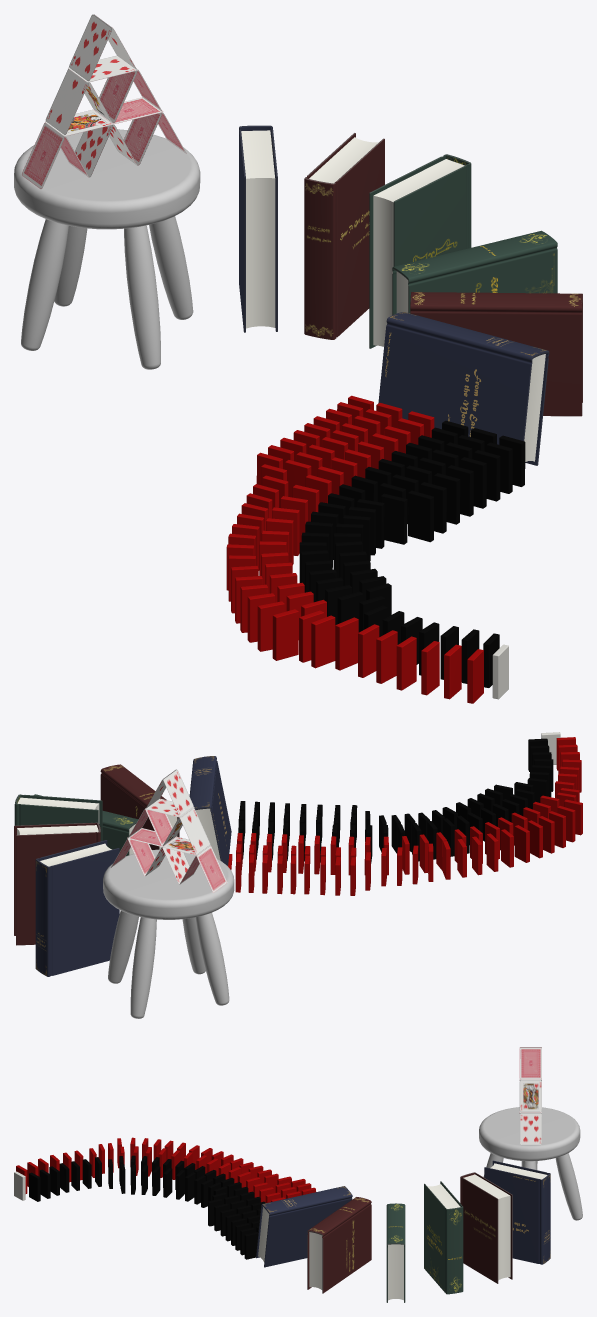
File: dominoPuzzle.fbx
The picture shows the model from 3 angles, top to bottom: view 1: azimuth 30°, elevation 25°; view 2: azimuth 150°, elevation 25°; view 3: azimuth 270°, elevation 25°; orthographic projection. The views are drawn at different scales.
Visible parts, largest first — view 1: pCube366 (×2), pCube364 (×2), pCube341 (×2), pCylinder159, pCube365 (×2), pCube369 (×7), pCube342, pCylinder162, pCylinder161, pCylinder163, pCylinder160, polySurface16 (+10 smaller); view 2: pCube364 (×2), pCube366 (×2), pCylinder159, pCube341 (×2), pCylinder160, pCylinder161, pCylinder163, pCube365 (×2), pCylinder162, polySurface16, polySurface3, polySurface11 (+16 smaller); view 3: pCube364 (×2), pCube366 (×2), pCube341 (×2), pCylinder159, pCube367 (×2), pCube342 (×2), pCylinder160, polySurface17, polySurface14, polySurface8, pCube365 (×2), pCube434.
Boxes of the visible parts, bbox=[...] form: pCube366 (×2): bbox=[304, 133, 582, 416]; pCube364 (×2): bbox=[239, 125, 549, 465]; pCube341 (×2): bbox=[369, 154, 557, 348]; pCylinder159: bbox=[14, 129, 200, 229]; pCube365 (×2): bbox=[241, 130, 545, 461]; pCube369 (×7): bbox=[311, 615, 461, 699]; pCube342: bbox=[373, 159, 464, 346]; pCylinder162: bbox=[124, 225, 160, 369]; pCylinder161: bbox=[21, 219, 68, 350]; pCylinder163: bbox=[149, 216, 193, 319]; pCylinder160: bbox=[54, 226, 87, 306]; polySurface16: bbox=[69, 14, 112, 81]; pCube364 (×2): bbox=[35, 756, 231, 976]; pCube366 (×2): bbox=[14, 764, 179, 945]; pCylinder159: bbox=[103, 849, 234, 919]; pCube341 (×2): bbox=[14, 794, 138, 855]; pCylinder160: bbox=[130, 917, 156, 1018]; pCylinder161: bbox=[195, 912, 229, 1005]; pCylinder163: bbox=[108, 911, 138, 983]; pCube365 (×2): bbox=[40, 808, 220, 866]; pCylinder162: bbox=[182, 917, 205, 974]; polySurface16: bbox=[163, 769, 193, 816]; polySurface3: bbox=[196, 846, 227, 892]; polySurface11: bbox=[180, 808, 210, 854]; pCube364 (×2): bbox=[256, 1160, 550, 1267]; pCube366 (×2): bbox=[307, 1172, 512, 1293]; pCube341 (×2): bbox=[386, 1181, 463, 1302]; pCylinder159: bbox=[479, 1107, 580, 1161]; pCube367 (×2): bbox=[309, 1174, 510, 1289]; pCube342 (×2): bbox=[388, 1184, 460, 1300]; pCylinder160: bbox=[555, 1153, 582, 1220]; polySurface17: bbox=[519, 1047, 541, 1079]; polySurface14: bbox=[519, 1080, 541, 1112]; polySurface8: bbox=[519, 1113, 541, 1145]; pCube365 (×2): bbox=[258, 1163, 547, 1261]; pCube434: bbox=[244, 1232, 258, 1259].
Bounding box in the file's own units: 45.54 × 25.81 × 77.49.
